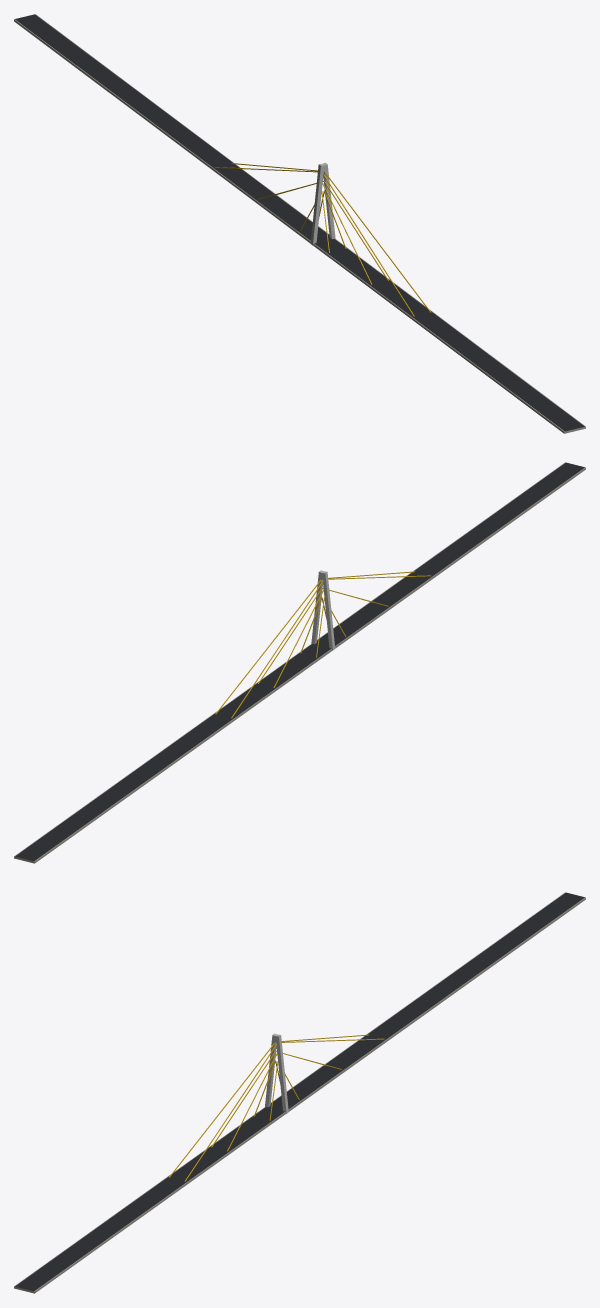
Rendered from jembatan-siak-4-lod2.glb.
3 views of the same model, one above another, from view 1: azimuth 30°, elevation 25°; view 2: azimuth 150°, elevation 25°; view 3: azimuth 330°, elevation 25° (orthographic). The views are drawn at different scales.
Visible parts, largest first — view 1: jembatan-siak-4_LOD2; view 2: jembatan-siak-4_LOD2; view 3: jembatan-siak-4_LOD2.
Part boxes in pixels (x1=…): jembatan-siak-4_LOD2: x1=14, y1=14, x2=585, y2=433; jembatan-siak-4_LOD2: x1=14, y1=462, x2=585, y2=863; jembatan-siak-4_LOD2: x1=14, y1=892, x2=585, y2=1293.
Size of the model in its own units: 27 by 64.02 by 830.
